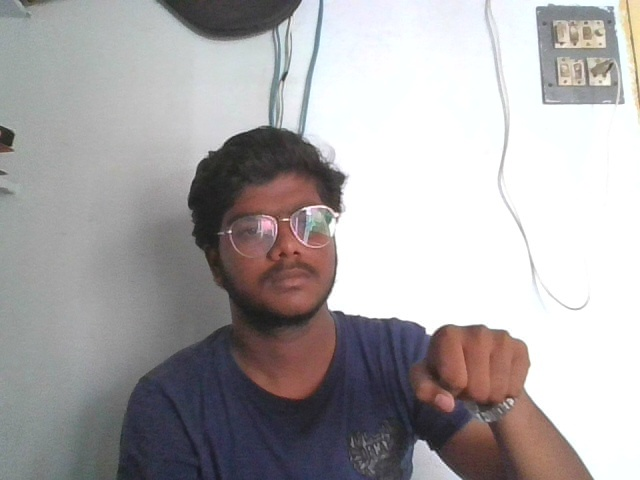Yes: (409, 313, 541, 419)
